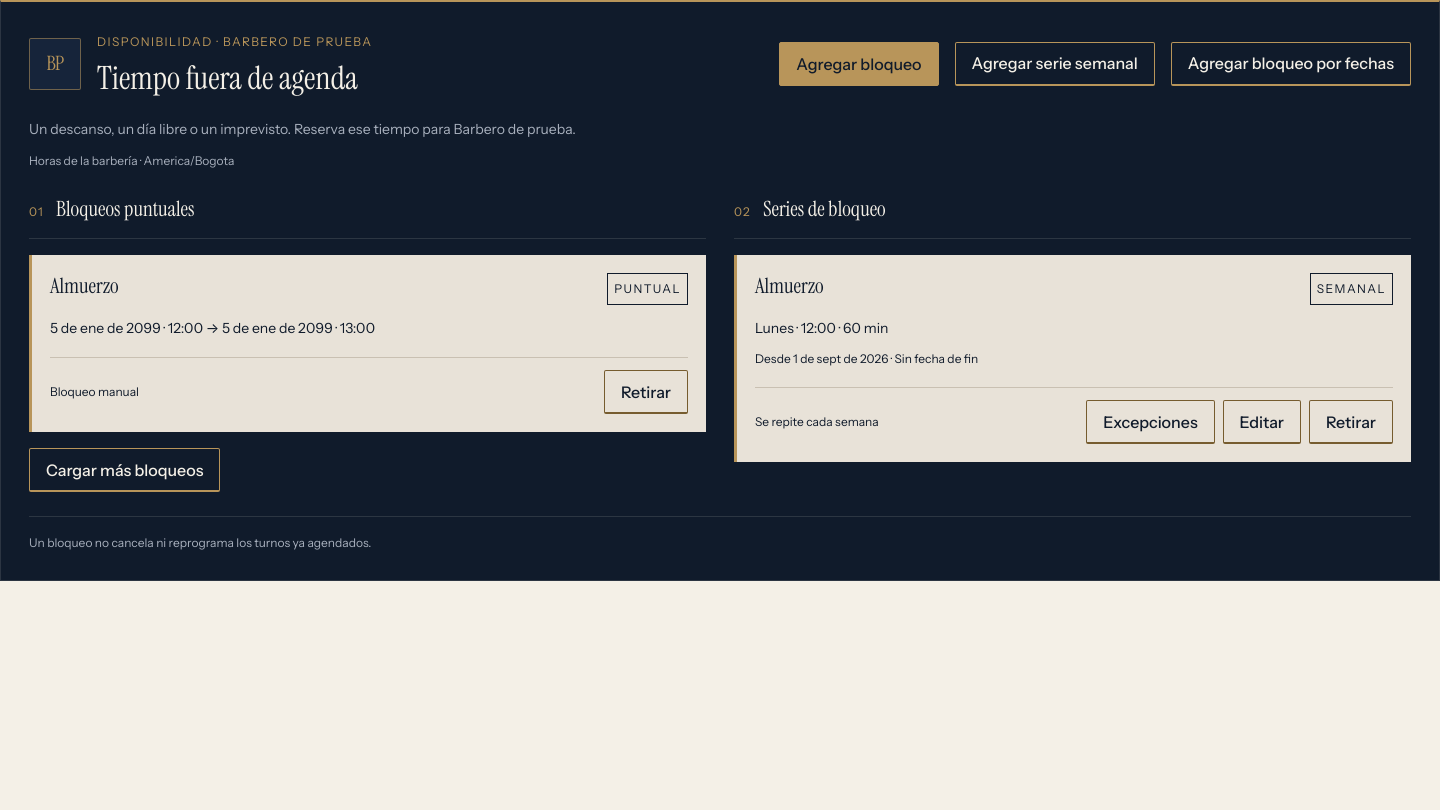
it: BarberBlocksPanel · avisos emergentes (DEC-095) › does not reinsert a retired block when a previous page request arrives late
The width and height of the screenshot is (1440, 810).
Click the button "Cargar más bloqueos". click: (125, 470)
box: [29,448,220,492]
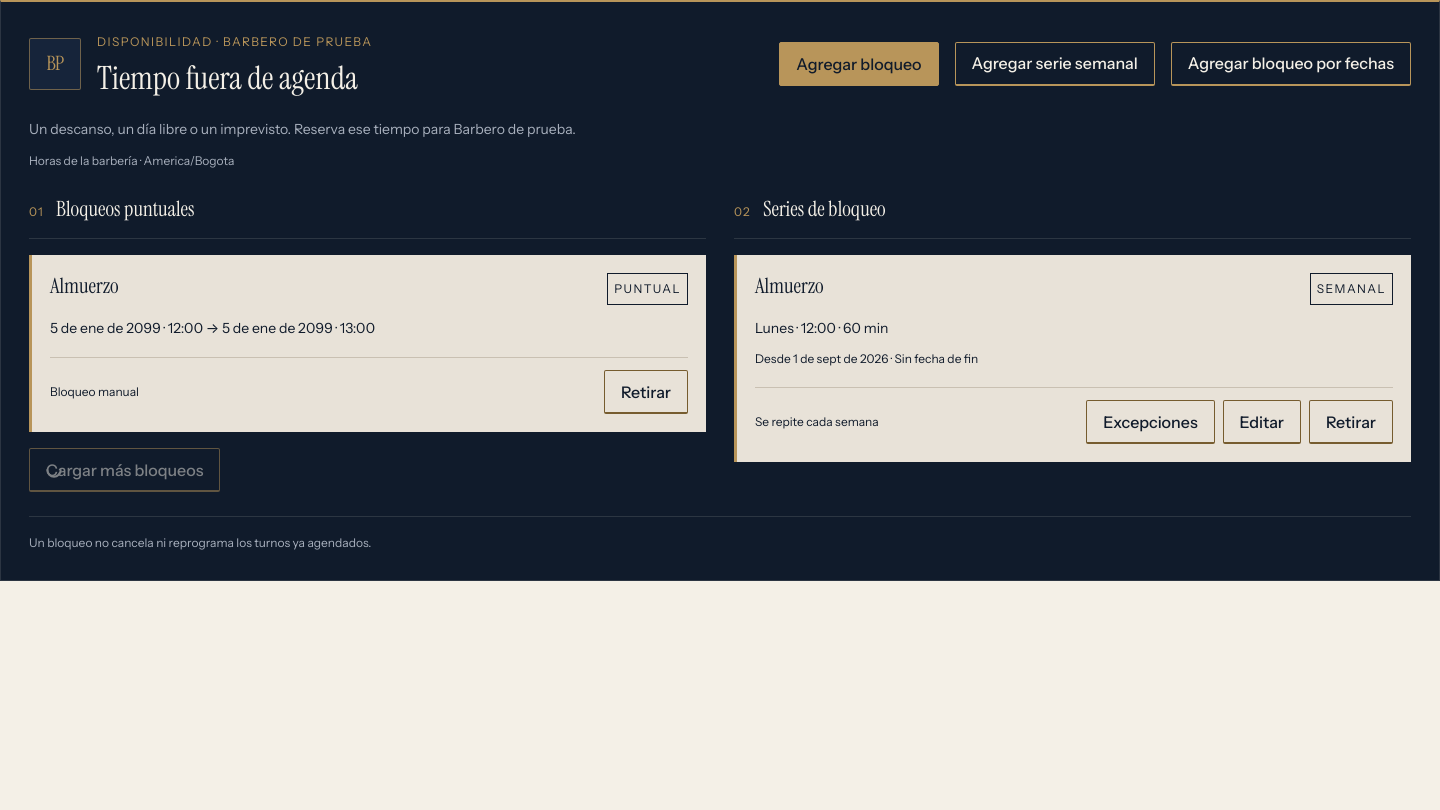
Click the button "Retirar" in the row of "Bloqueo manual". click: (646, 392)
box: [604,370,688,414]
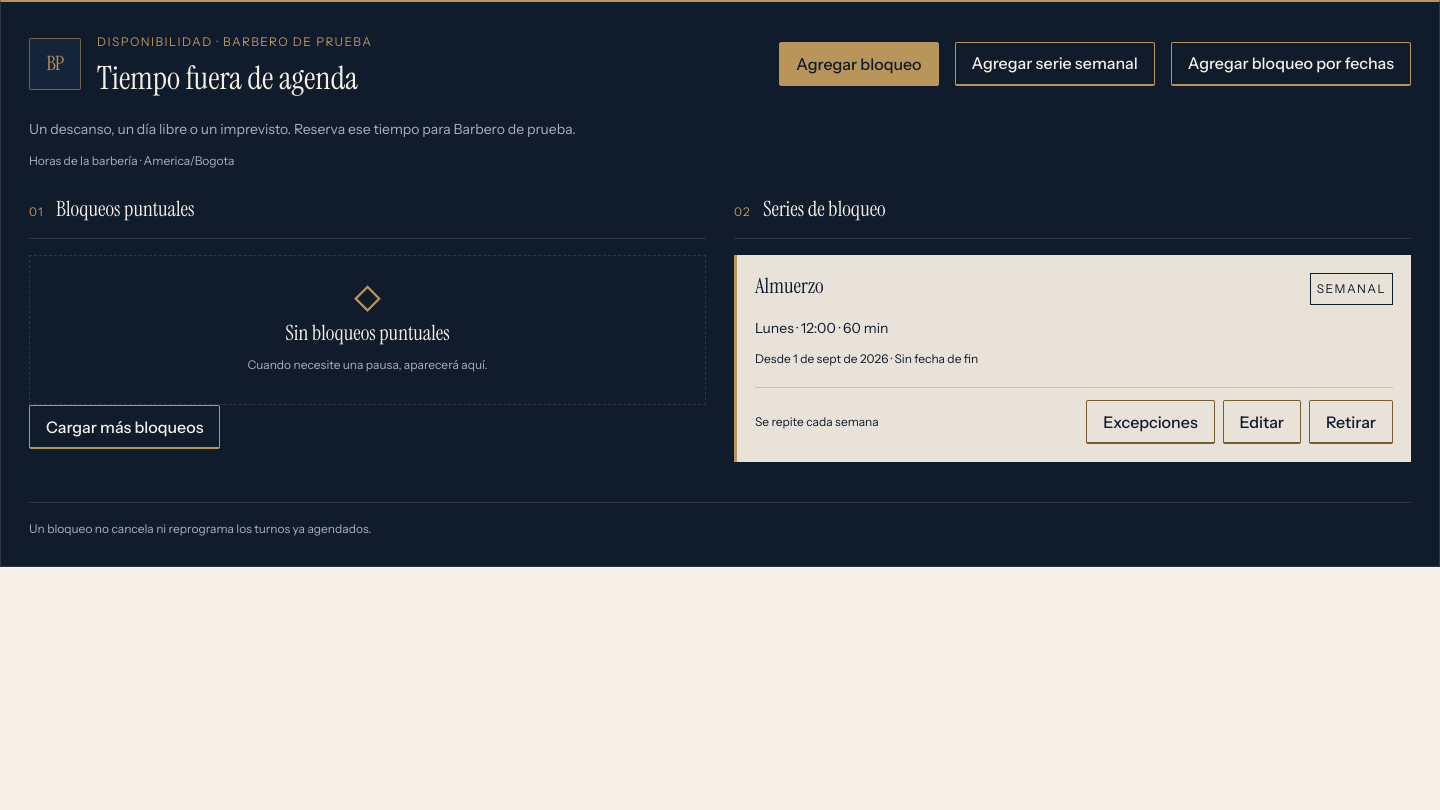
Check: the text "Sin bloqueos puntuales" is shown, box [285,321,450,345]
Check: the number of list items with class "blocks-panel__record" is 1, box [734,255,1411,462]
